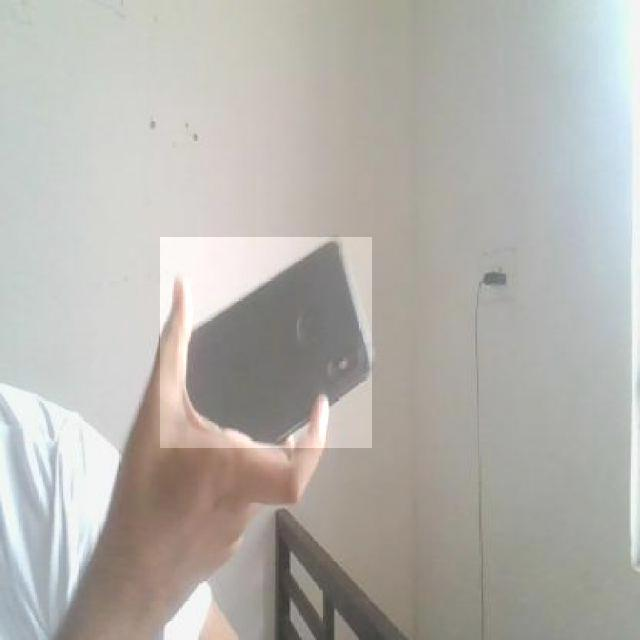mobile: (159, 237, 372, 448)
